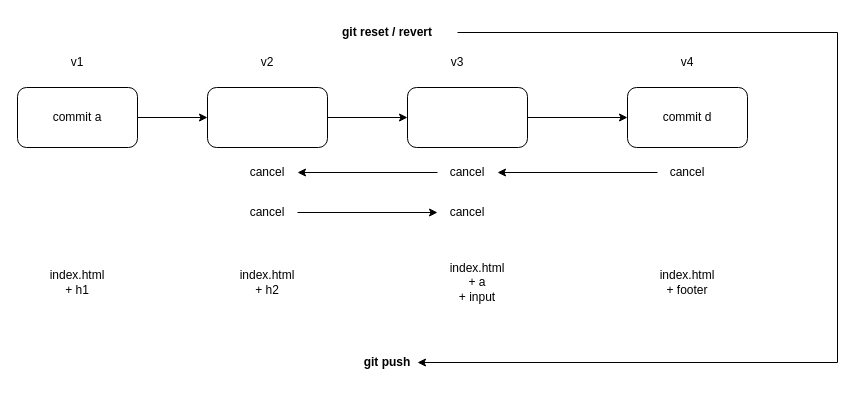
The diagram is 863 pixels wide and 394 high, and some of its shapes have lost their labels. The shapes that lost their labels are listed below. From the top down, each one's centre as x and y in pixels, then its label:
At pixel 267 117: "commit b".
At pixel 467 117: "commit c".
